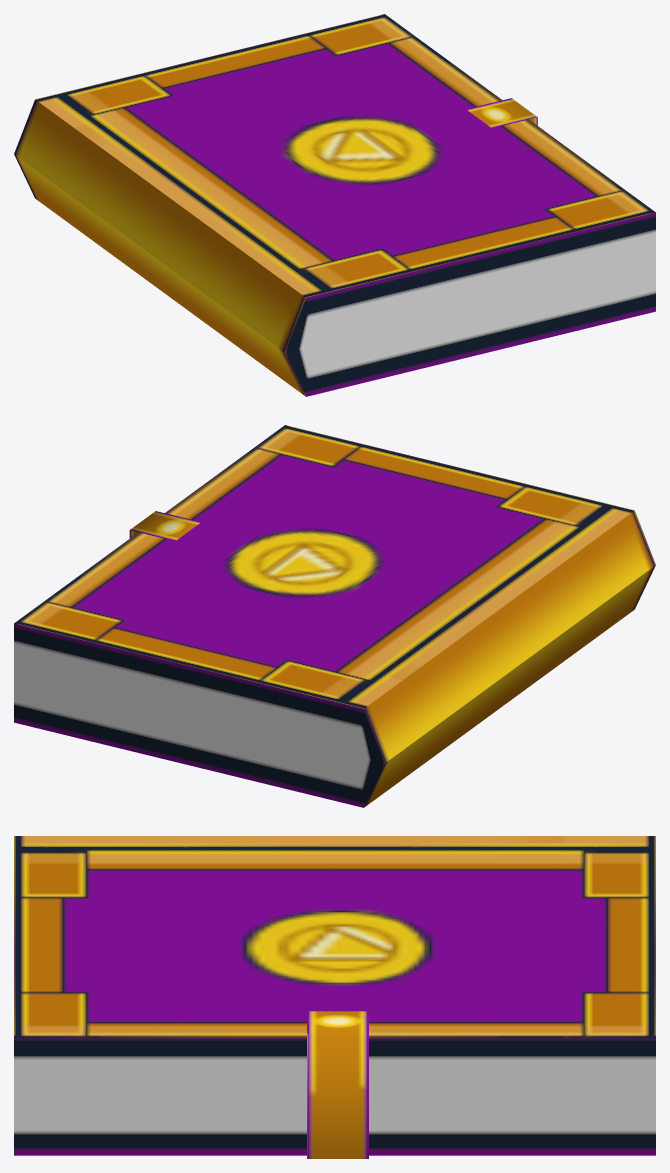
File: book3_fix.FBX
3 views of the same model, one above another, from view 1: azimuth 30°, elevation 25°; view 2: azimuth 150°, elevation 25°; view 3: azimuth 270°, elevation 25° (orthographic). The views are drawn at different scales.
Parts seen in each view (by area): view 1: Object009; view 2: Object009; view 3: Object009.
Boxes of the visible parts, bbox=[...] form: Object009: bbox=[14, 14, 655, 396]; Object009: bbox=[14, 425, 655, 807]; Object009: bbox=[14, 836, 655, 1158].
Bounding box in the file's own units: 0.4143 × 0.1077 × 0.5168.
